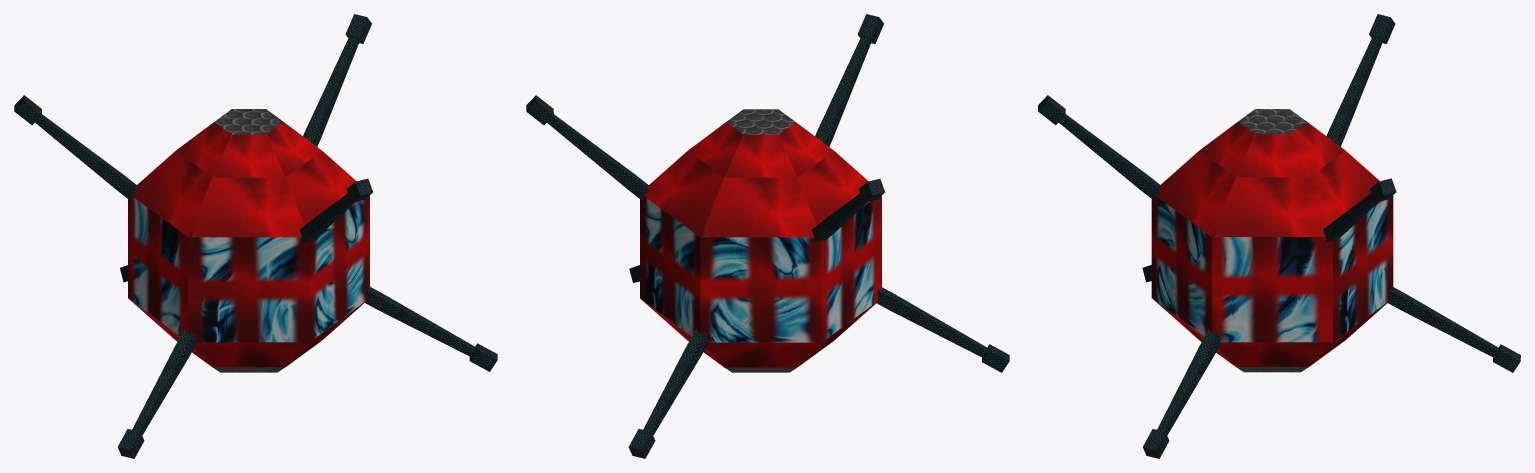
Rendered from TargetBot.fbx.
The picture shows the model from 3 angles, left to right: view 1: azimuth 30°, elevation 25°; view 2: azimuth 150°, elevation 25°; view 3: azimuth 270°, elevation 25°; orthographic projection.
Parts seen in each view (by area): view 1: TargetBot_LOD0; view 2: TargetBot_LOD0; view 3: TargetBot_LOD0.
Boxes of the visible parts, left/top/right/bottom form: TargetBot_LOD0: left=14, top=14, right=497, bottom=458; TargetBot_LOD0: left=526, top=14, right=1009, bottom=458; TargetBot_LOD0: left=1038, top=14, right=1520, bottom=458.
Size of what is drawn, in the model's own units: 344 by 235 by 378.
1 material, 1 textured.
